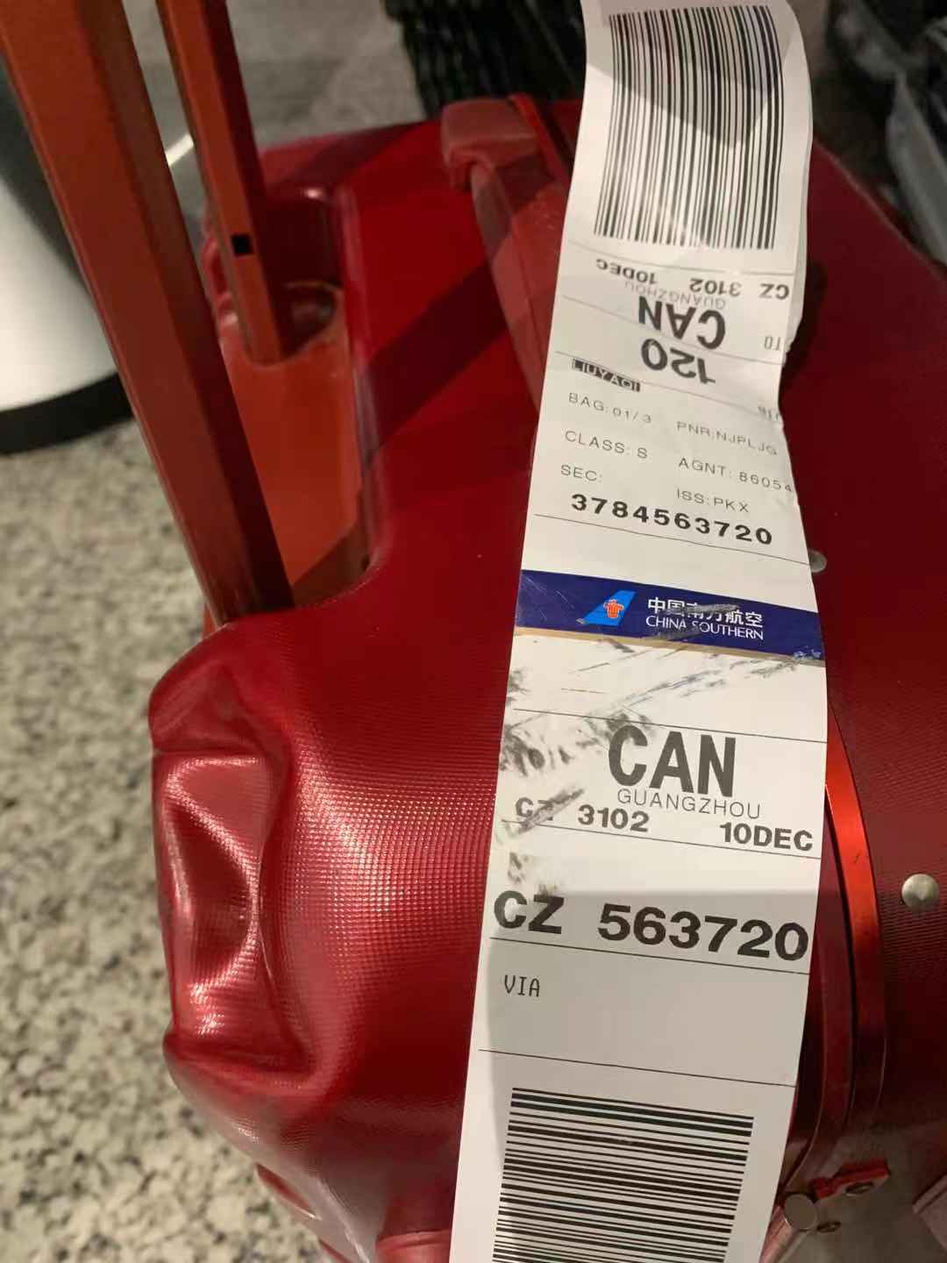rupture: (151, 660, 374, 1104)
